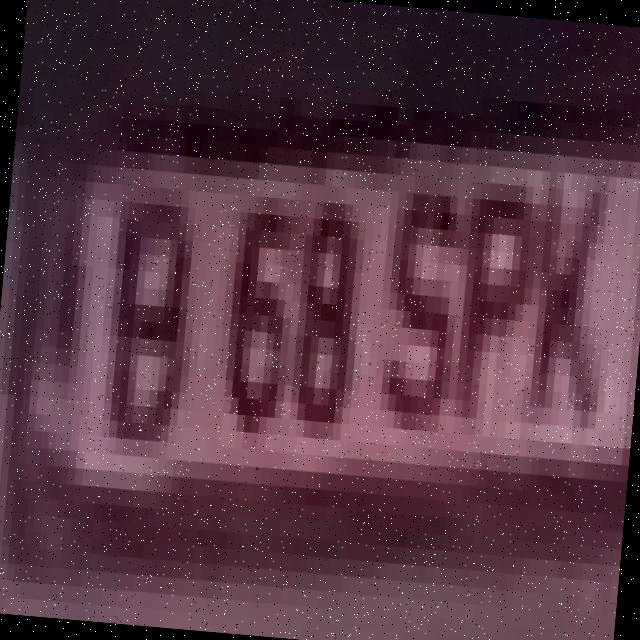Autre: (4, 141, 640, 532)
